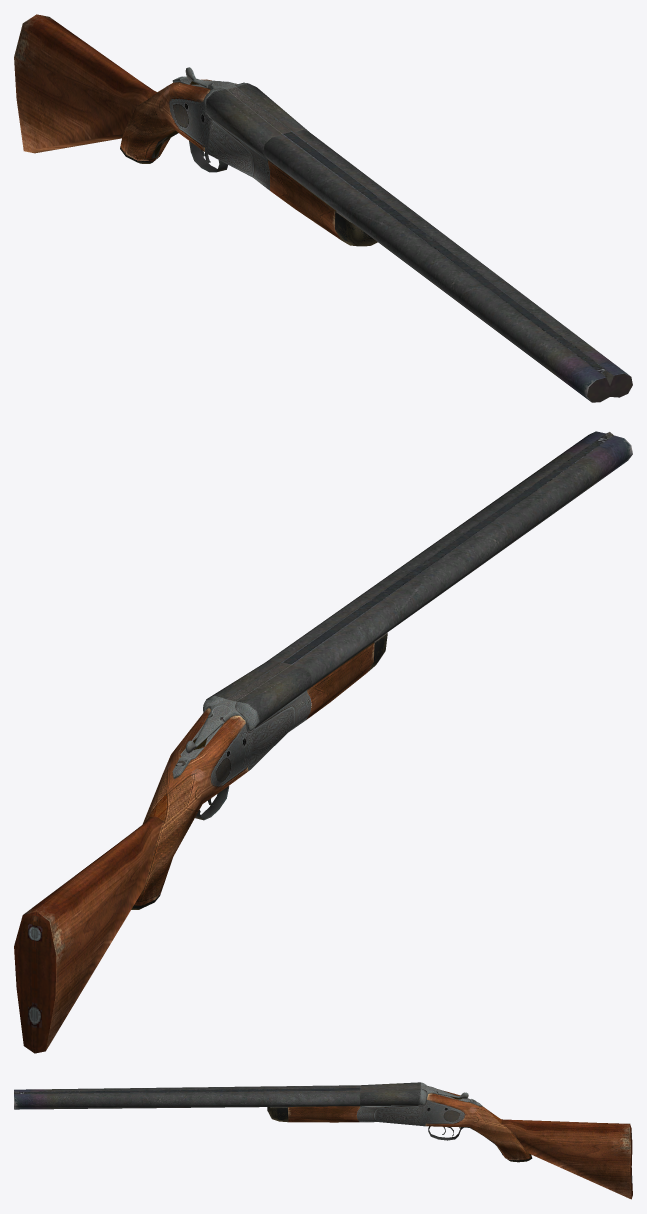
Rendered from Shotgun_sdq_05_lod1_Body_LOD_(000270).glb.
3 views of the same model, one above another, from view 1: azimuth 30°, elevation 25°; view 2: azimuth 150°, elevation 25°; view 3: azimuth 270°, elevation 25° (orthographic). The views are drawn at different scales.
Parts seen in each view (by area): view 1: sdq_05_lod1; view 2: sdq_05_lod1; view 3: sdq_05_lod1.
Boxes of the visible parts, x1,y1,x2,y2 form: sdq_05_lod1: (14,14,632,402); sdq_05_lod1: (14,431,632,1053); sdq_05_lod1: (14,1082,632,1199).
Bounding box in the file's own units: 0.0807 × 0.2978 × 1.48.
1 material, 1 textured.
